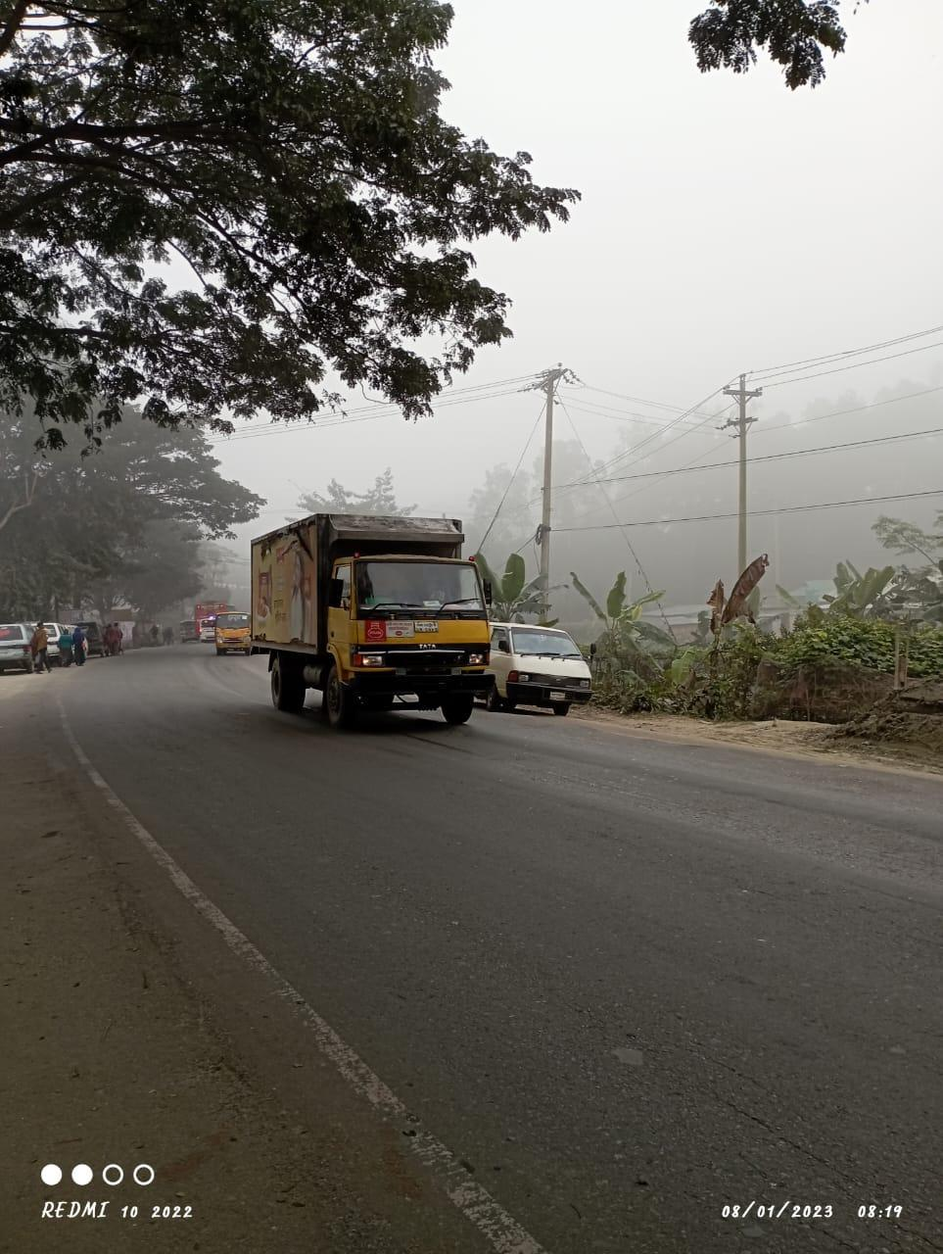Car: (497, 608, 607, 732), (1, 616, 37, 679)
Truck: (237, 508, 497, 734), (201, 601, 260, 673)
